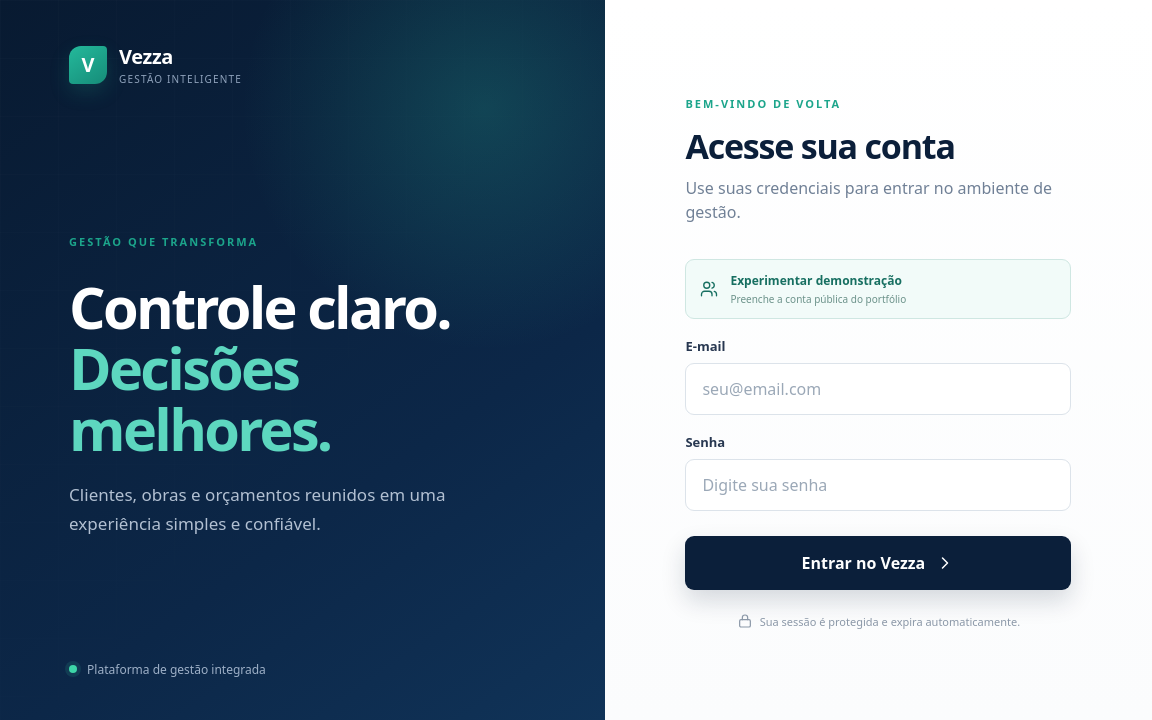
it: autenticação › exibe mensagem para credenciais inválidas
Type "teste@vezza.dev" into the field labelled "E-mail". click: point(878, 389)
box: [685,363,1071,415]
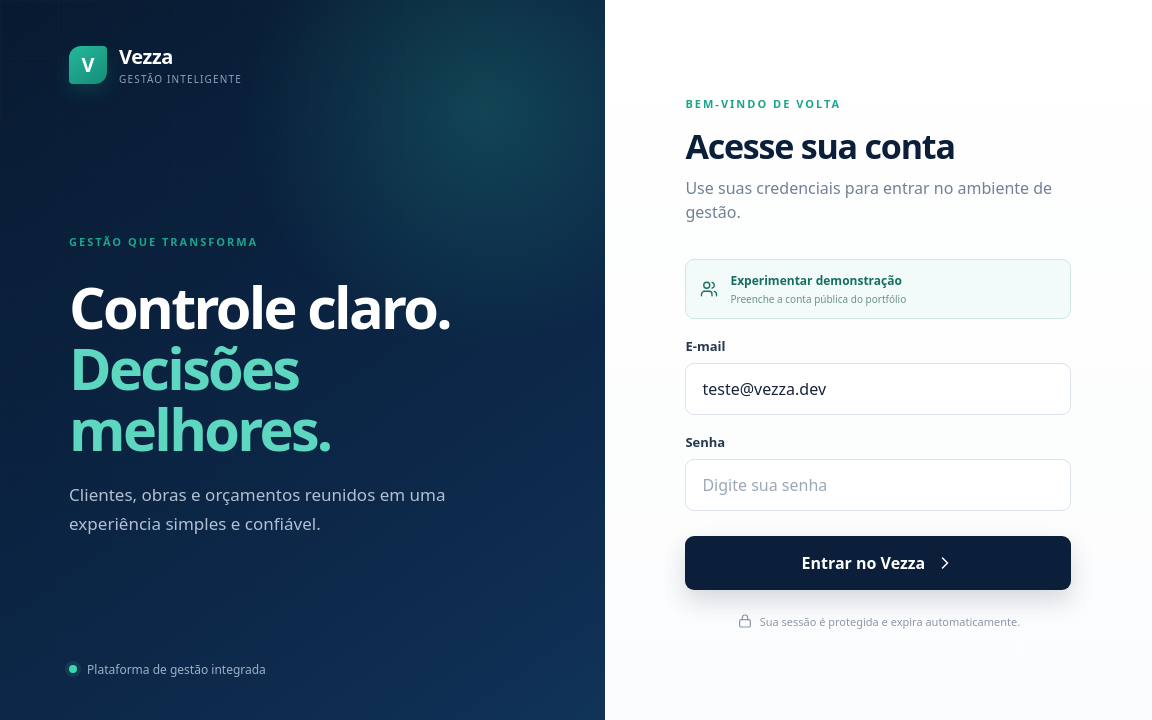
Type "incorreta" into the password field labelled "Senha". click: point(878, 485)
box: [685,459,1071,511]
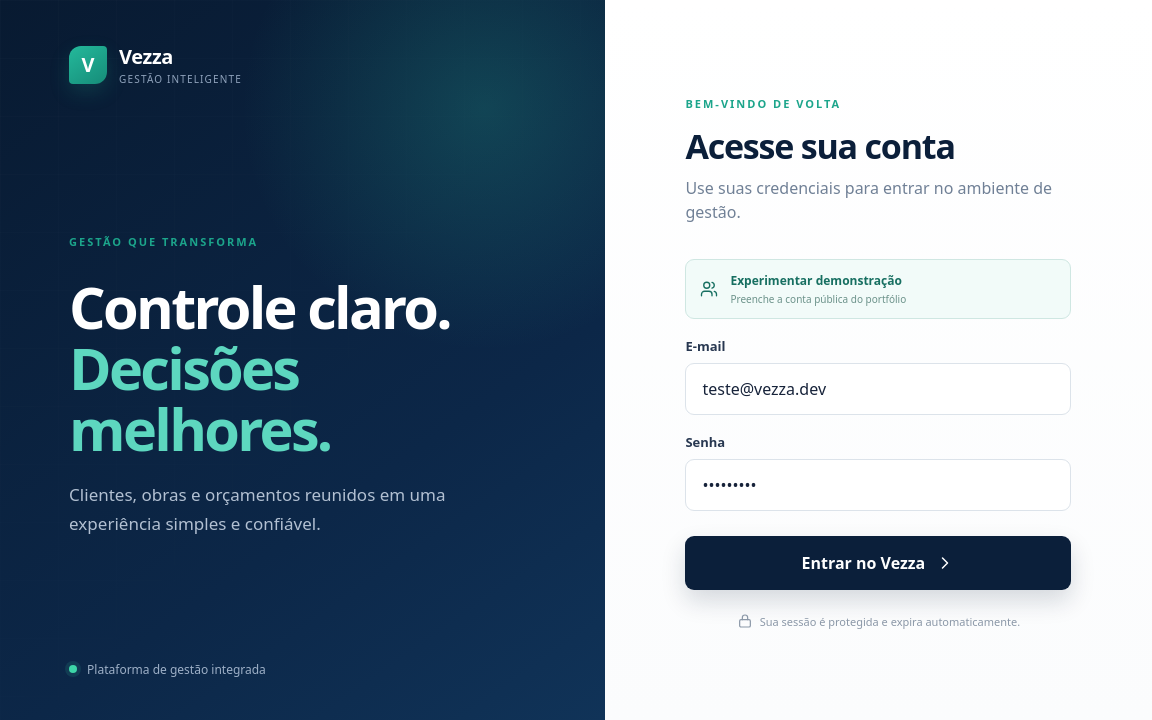
Click the button "Entrar no Vezza". click: point(878, 563)
box: [685,536,1071,590]
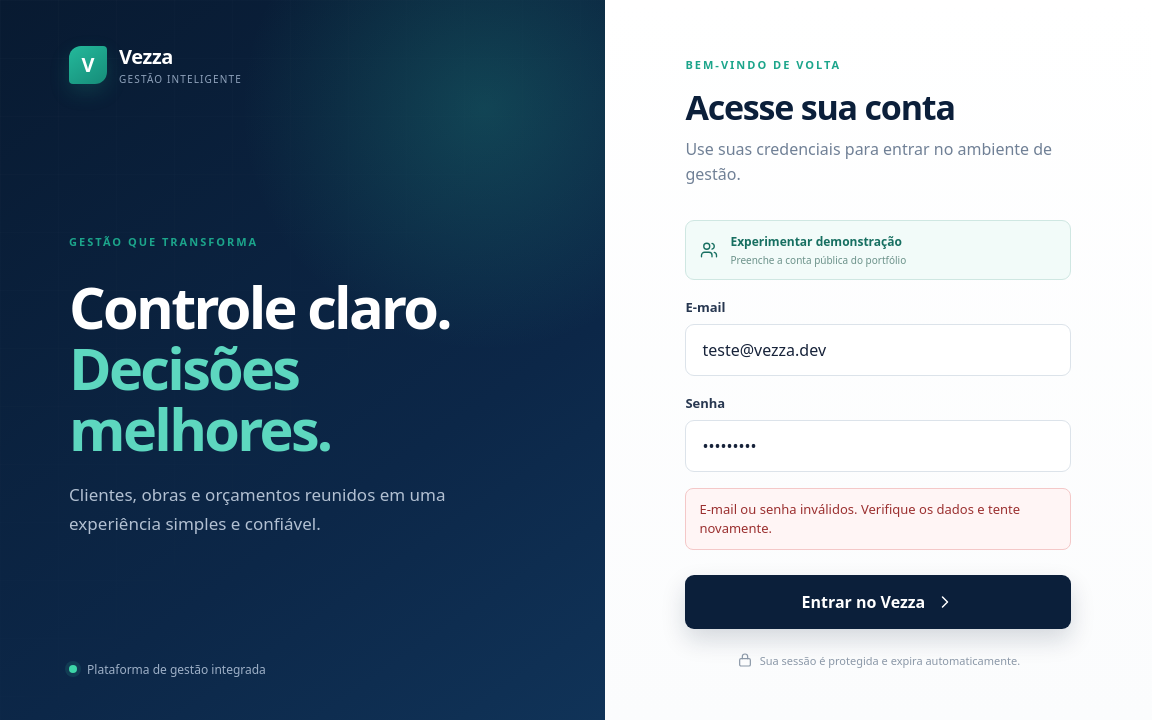
Expected: the message shows "E-mail ou senha inválidos", [699,500,1020,537]
